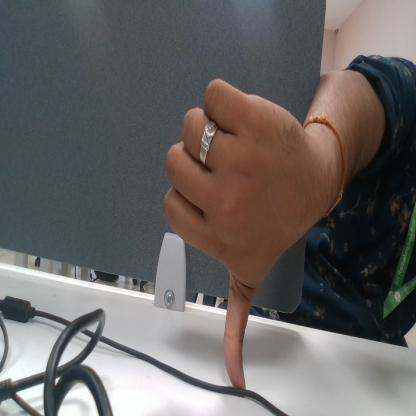Thumbs Down: (162, 64, 300, 386)
